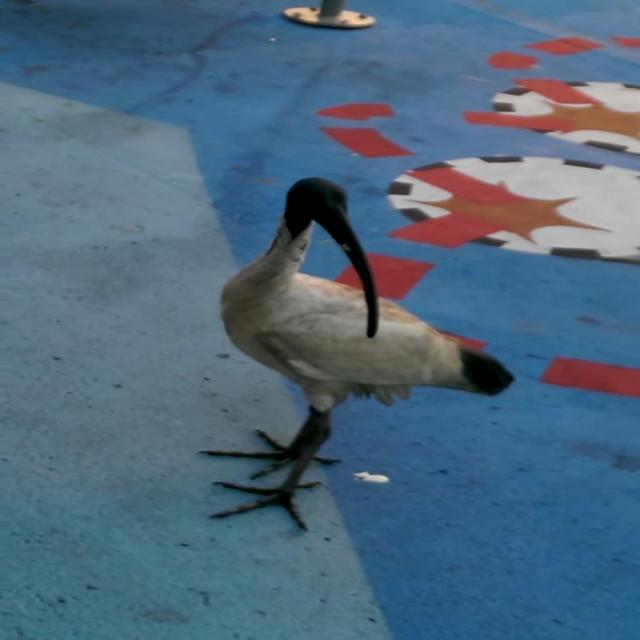Birds-Ibis: (194, 169, 522, 539)
